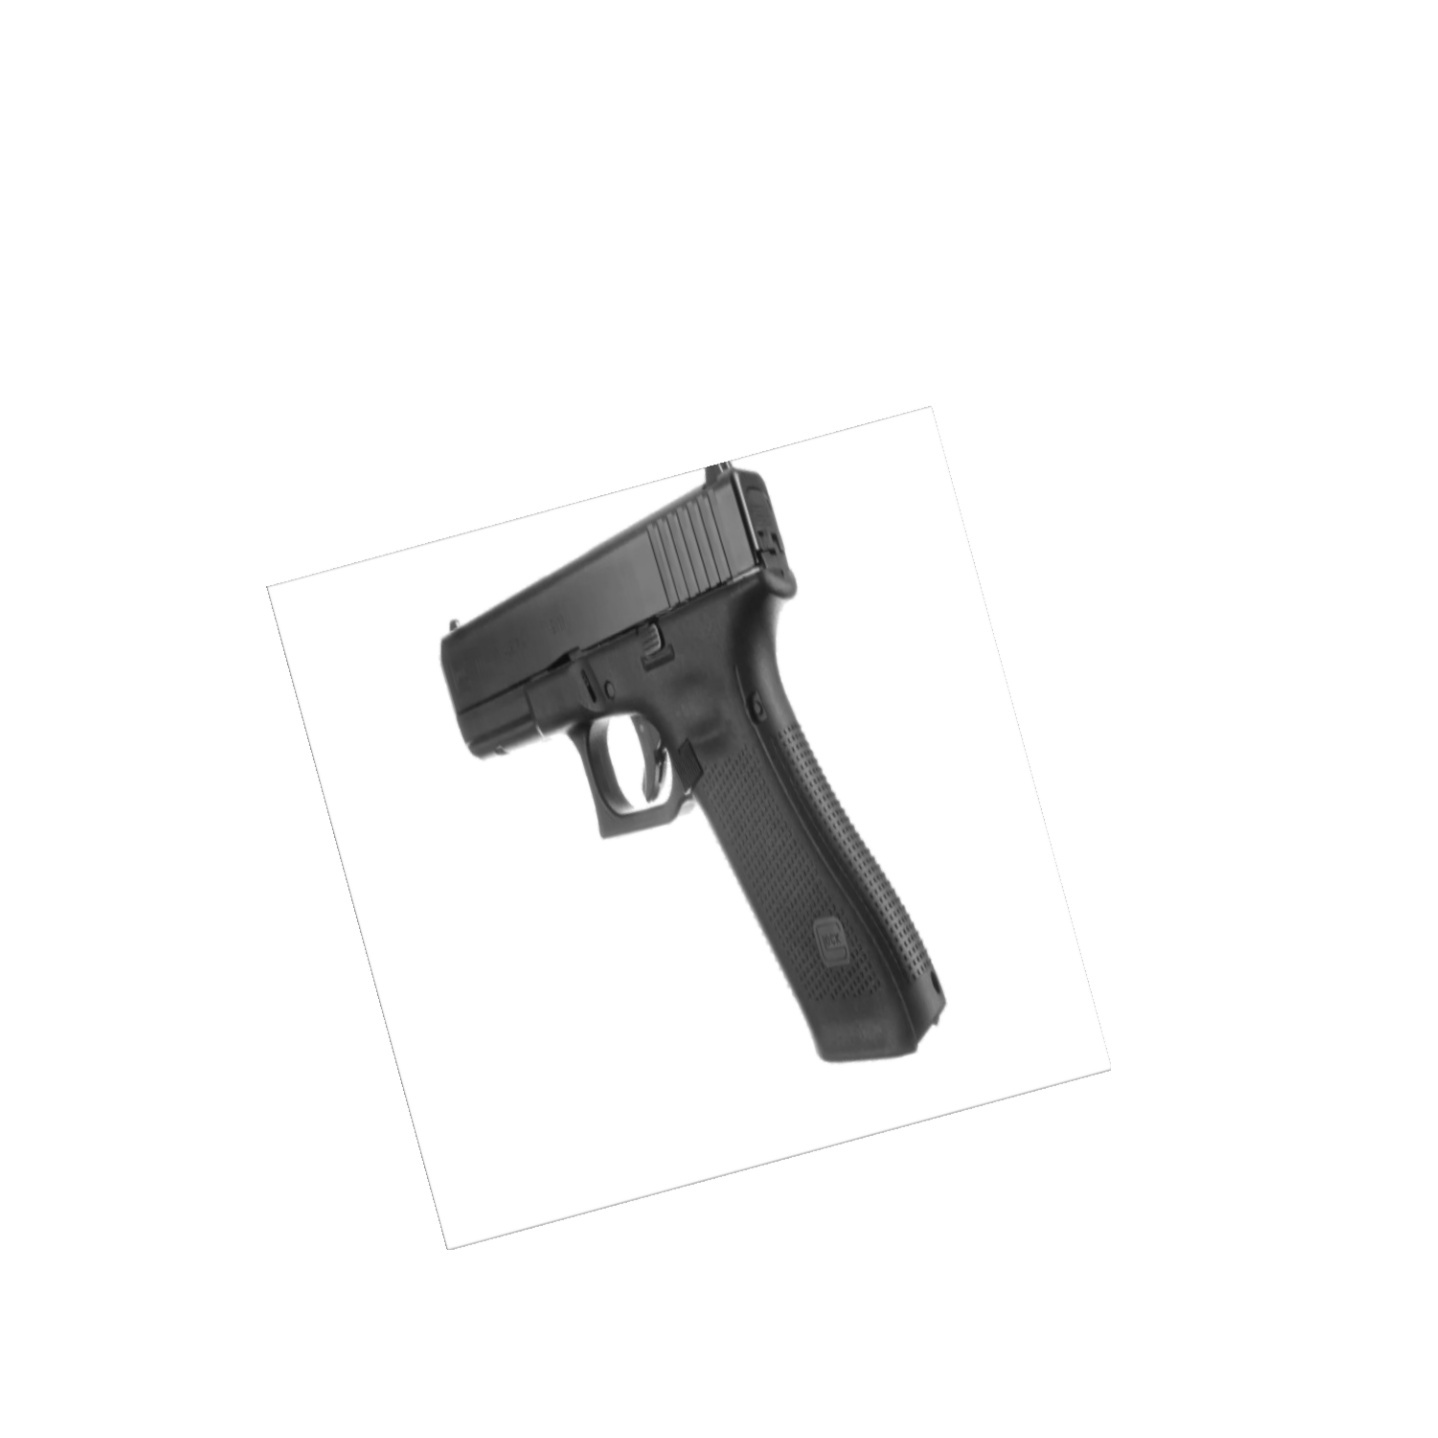gun: (417, 458, 957, 1077)
